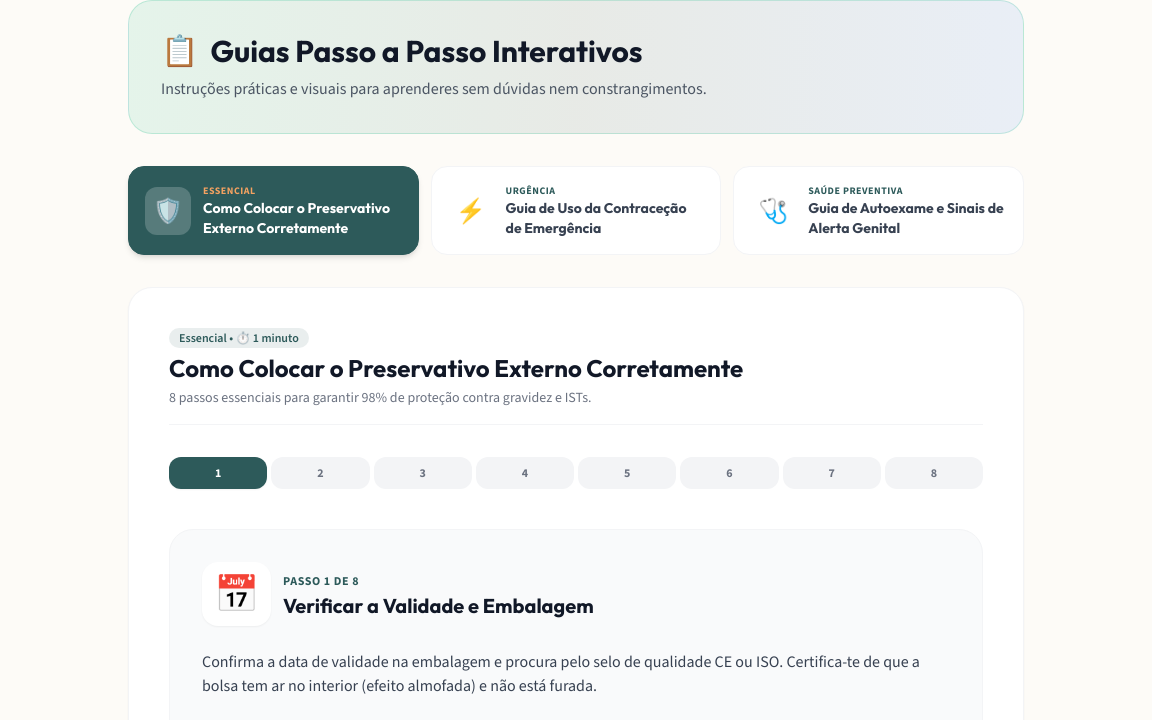
Test case: StepByStepGuides › switches to second guide (pílula do dia seguinte) and resets to step 1
This screenshot has width=1152, height=720.
Click the heading "Guia de Uso da Contraceção de Emergência". click: (605, 218)
box: [506,198,704,238]
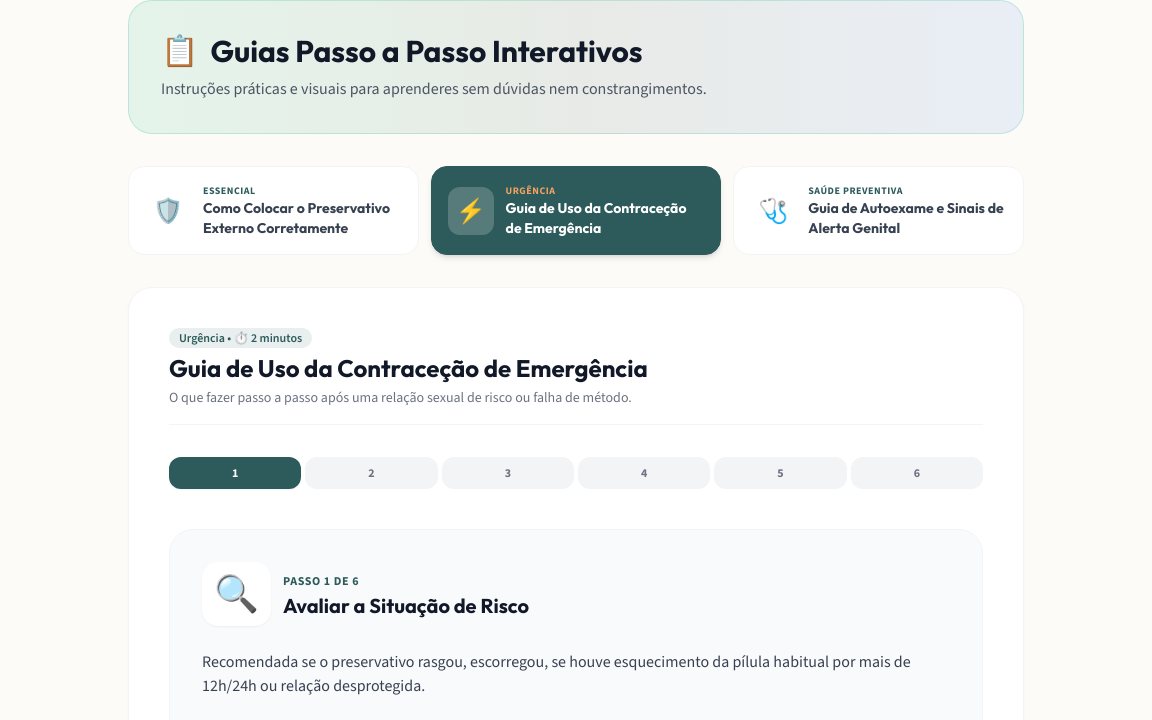
Now the text "Urgência • ⏱️ 2 minutos" is shown, box [169,328,312,348]
Now the text "Passo 1 de 6" is shown, box [283,573,359,589]
Now the heading "Avaliar a Situação de Risco" is shown, box [283,592,529,620]
